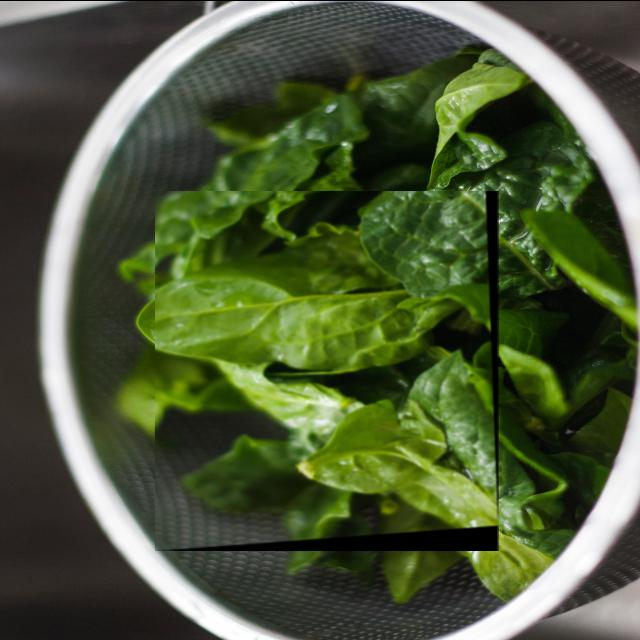spanich: (156, 190, 500, 550)
